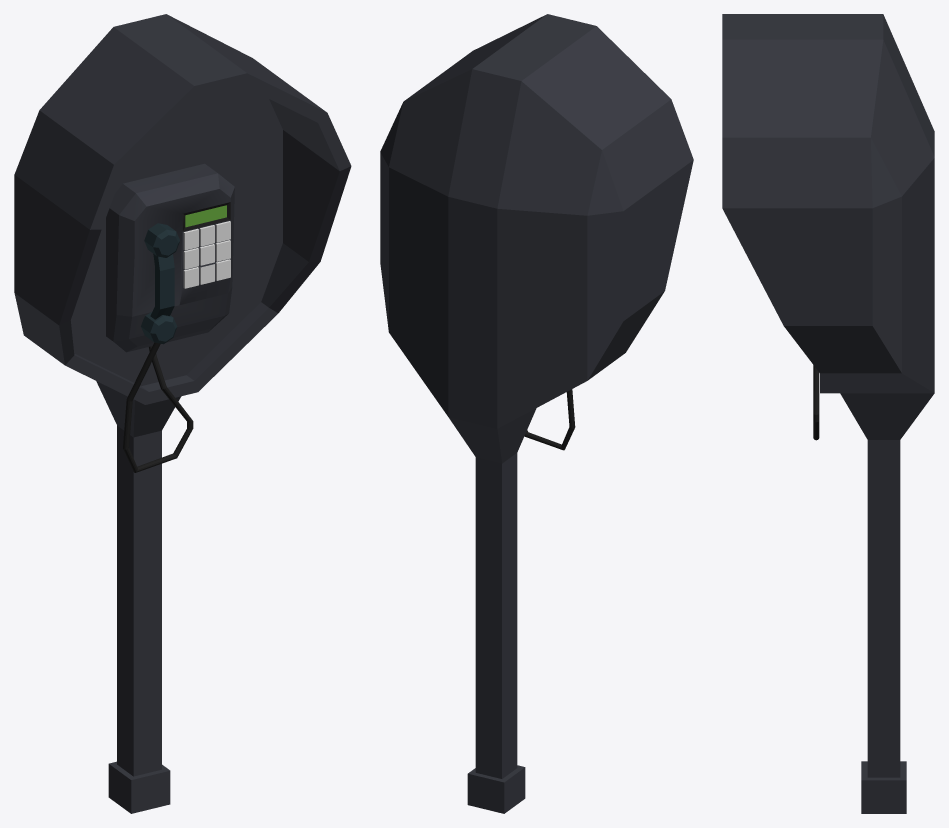
The model's file is Public_Telephone.fbx.
3 renders of one model, left to right at view 1: azimuth 30°, elevation 25°; view 2: azimuth 150°, elevation 25°; view 3: azimuth 270°, elevation 25°, orthographic. The views are drawn at different scales.
Visible parts, largest first — view 1: street_decor_16; view 2: street_decor_16; view 3: street_decor_16.
Boxes of the visible parts, x1,y1,x2,y2 form: street_decor_16: (14, 14, 351, 813); street_decor_16: (380, 14, 693, 813); street_decor_16: (722, 14, 934, 813).
Size of the model in its own units: 69.42 by 198 by 49.07.
